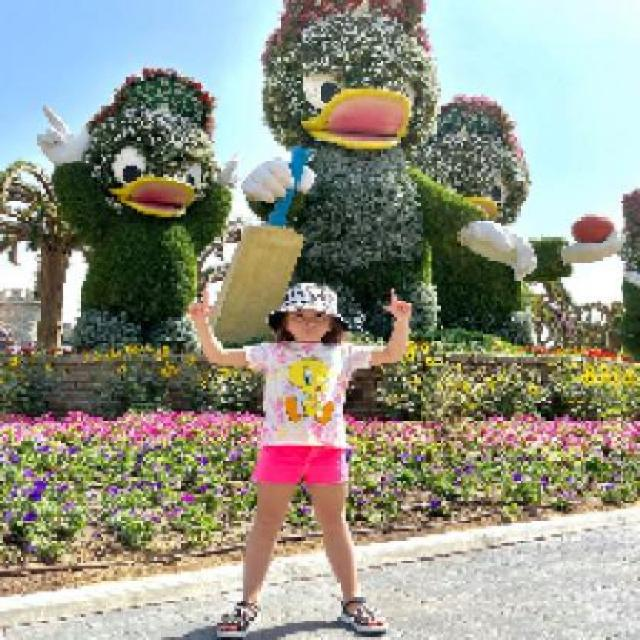child: (185, 285, 418, 638)
